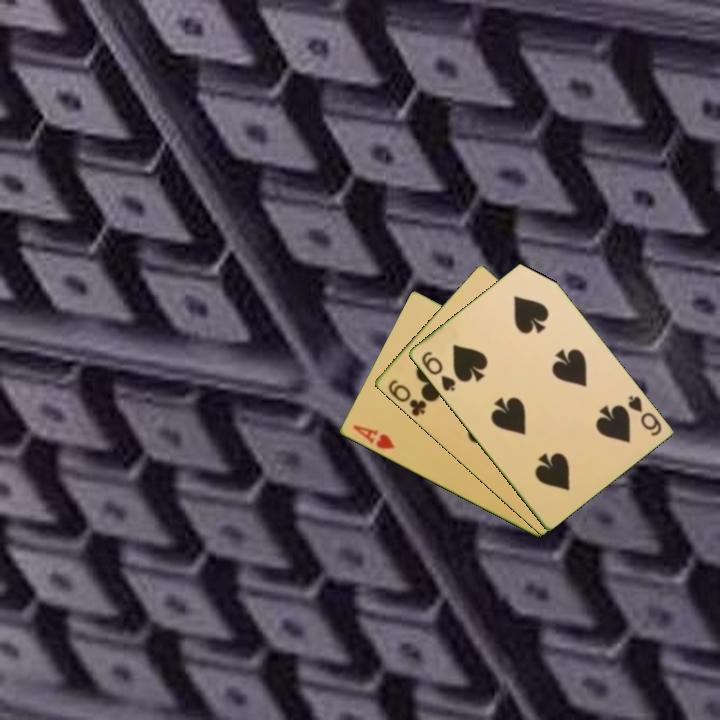6c: (384, 376, 429, 419)
6s: (417, 348, 458, 394), (624, 392, 664, 439)
Ah: (349, 421, 398, 452)
